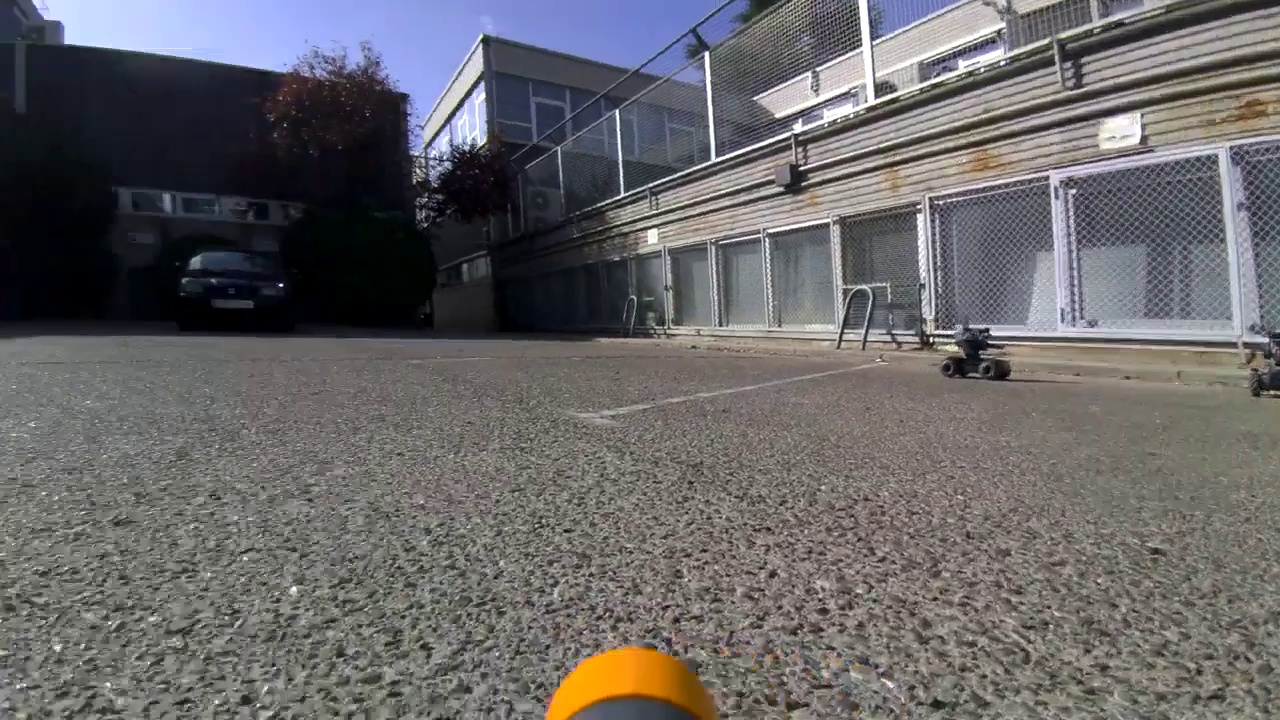robot: (936, 317, 1021, 384), (1242, 322, 1280, 399)
